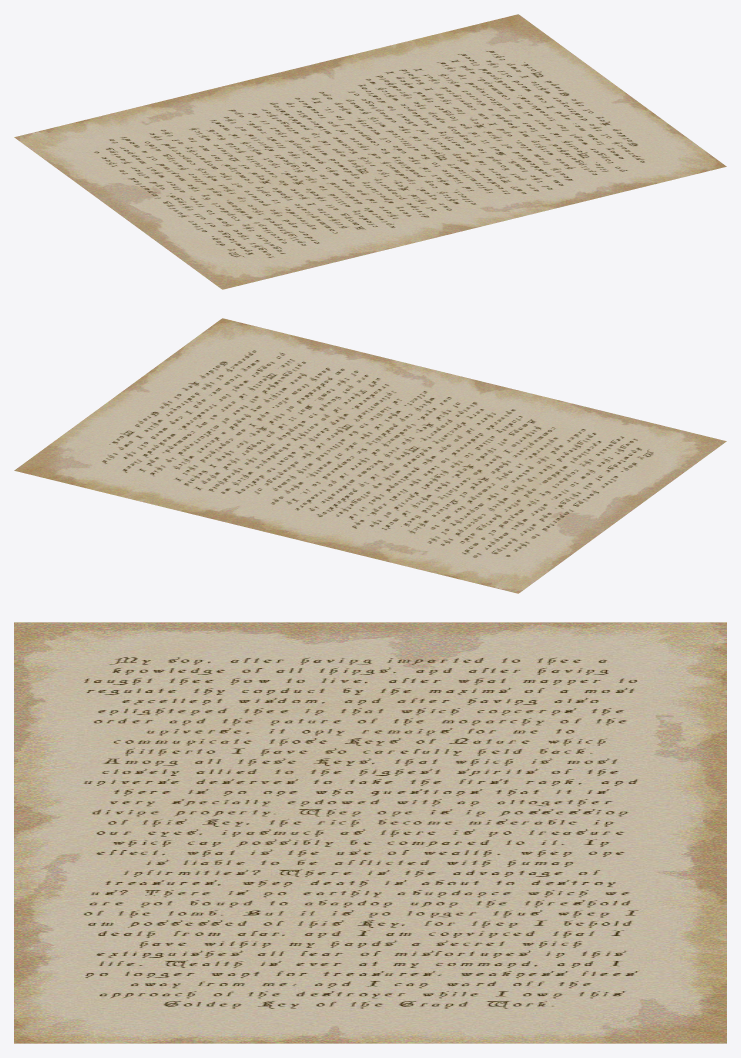
File: paper_v2.FBX
3 renders of one model, top to bottom at view 1: azimuth 30°, elevation 25°; view 2: azimuth 150°, elevation 25°; view 3: azimuth 270°, elevation 25°, orthographic. The views are drawn at different scales.
Parts seen in each view (by area): view 1: Plane001; view 2: Plane001; view 3: Plane001.
Boxes of the visible parts, left/top/right/bottom form: Plane001: left=14, top=14, right=726, bottom=289; Plane001: left=14, top=318, right=726, bottom=593; Plane001: left=14, top=622, right=726, bottom=1043.
Size of the model in its own units: 30.96 by 1.36e-15 by 22.15.
1 material, 1 textured.
